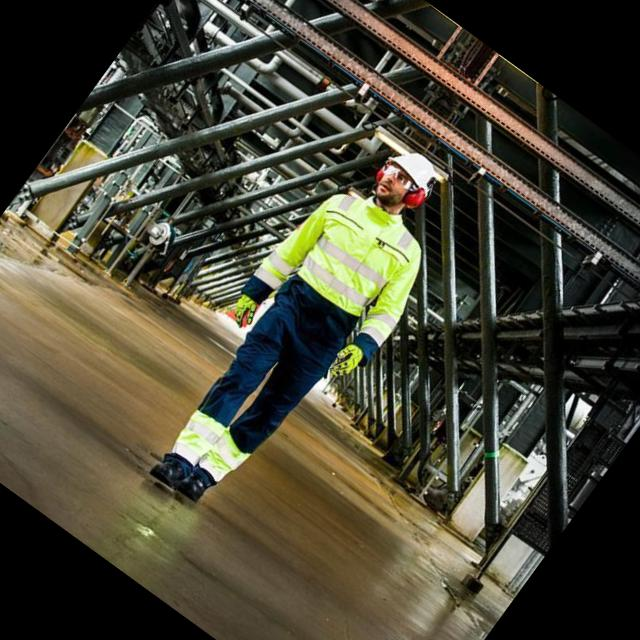hard_hat: (384, 142, 444, 198)
safety_vest: (266, 168, 432, 336)
vehicle: (98, 101, 506, 572)
work_boots: (172, 466, 215, 509), (148, 449, 189, 490)
